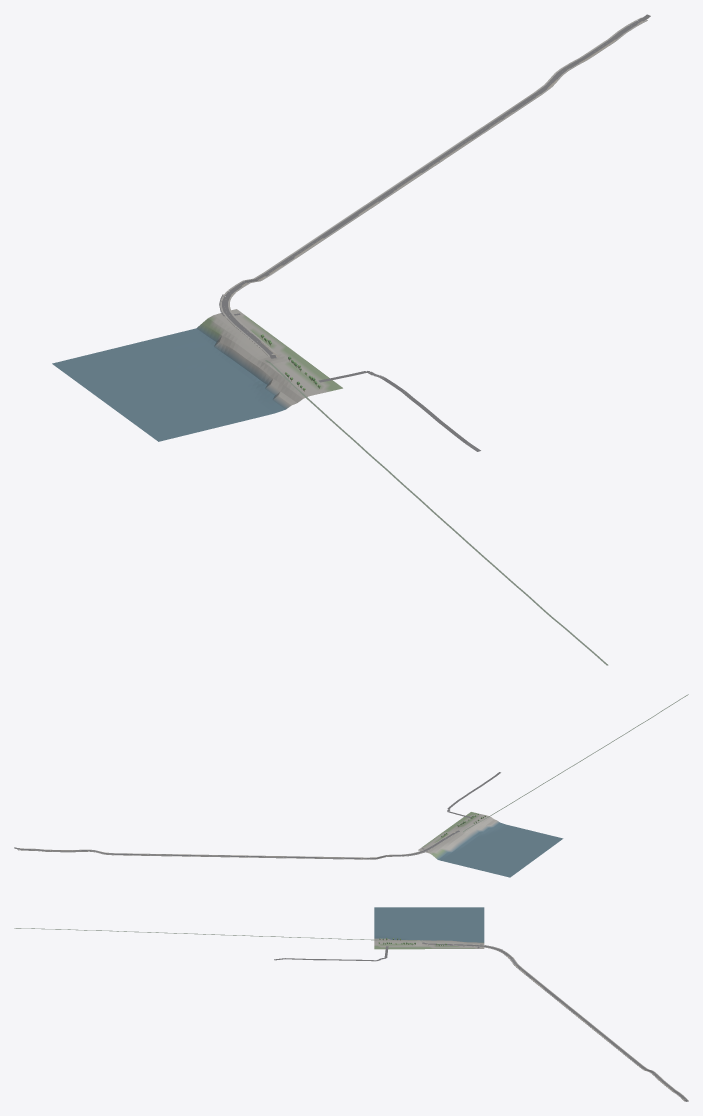
File: tile_2_0.glb
3 views of the same model, one above another, from view 1: azimuth 30°, elevation 25°; view 2: azimuth 150°, elevation 25°; view 3: azimuth 270°, elevation 25° (orthographic). The views are drawn at different scales.
Visible parts, largest first — view 1: terrain, roads, sidewalks, paths; view 2: terrain, roads, sidewalks, paths; view 3: terrain, roads, sidewalks, paths.
Part boxes in pixels (<box>): terrain: <box>52,309,342,441</box>; roads: <box>219,14,650,451</box>; sidewalks: <box>220,17,647,356</box>; paths: <box>229,18,648,665</box>; terrain: <box>418,812,563,877</box>; roads: <box>14,772,500,859</box>; sidewalks: <box>17,831,457,859</box>; paths: <box>20,694,688,858</box>; terrain: <box>374,907,484,949</box>; roads: <box>274,942,688,1101</box>; sidewalks: <box>425,943,688,1101</box>; paths: <box>14,928,684,1100</box>.
Bounding box in the file's own units: 1100 × 19.33 × 1569.
